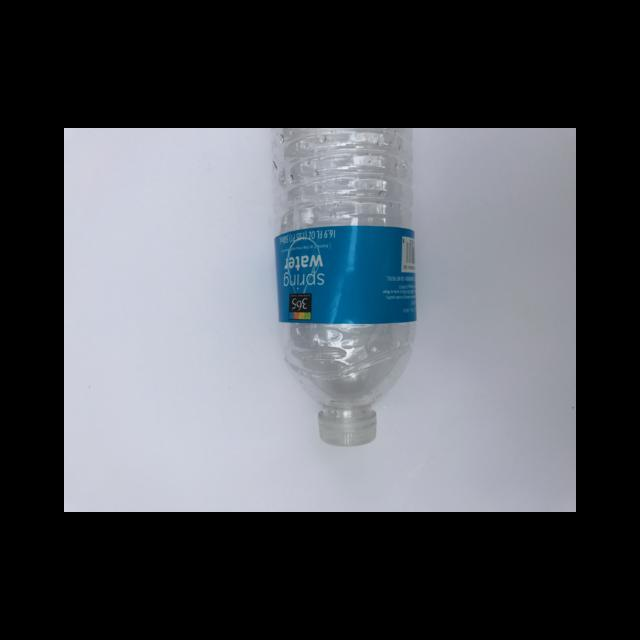plastic: (275, 128, 412, 446), (274, 224, 416, 324), (318, 407, 375, 444)
